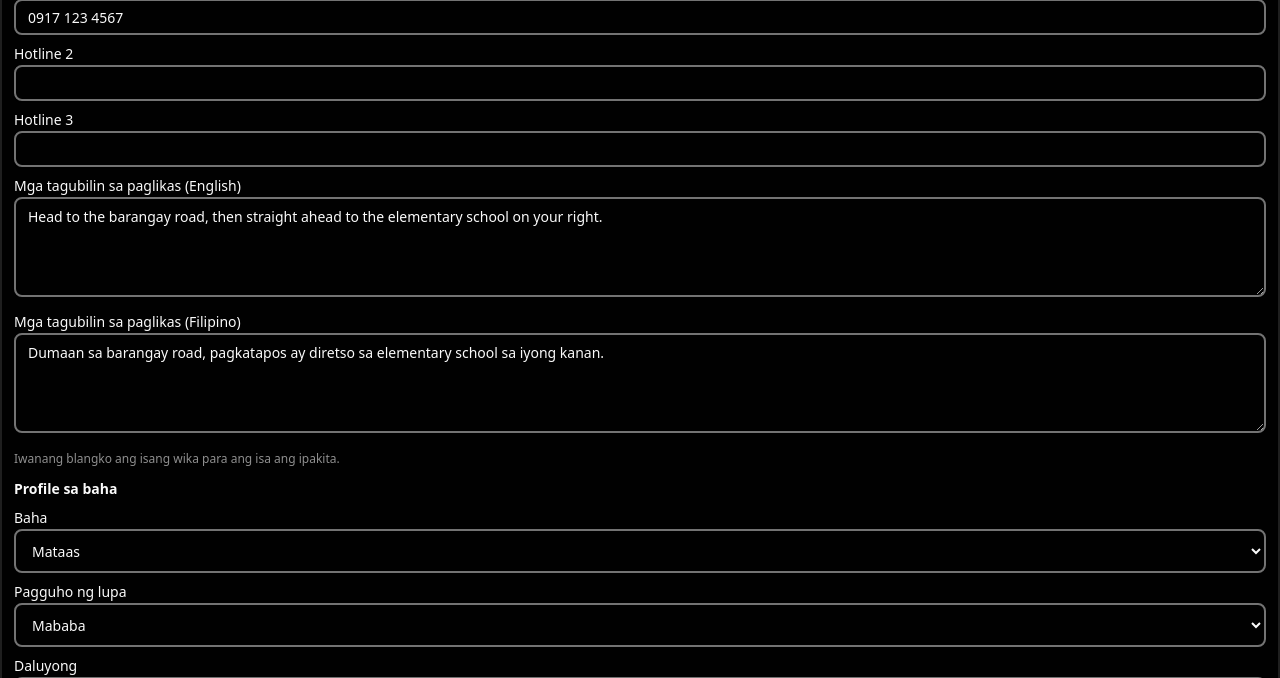
Test: BarangayDetailsForm › refuses a bad number in the official's language, without sending
This screenshot has width=1280, height=678.
Type "abc" into the field labelled "Hotline 2" at (640, 83), box [14,65,1266,101]
(page scrolled)
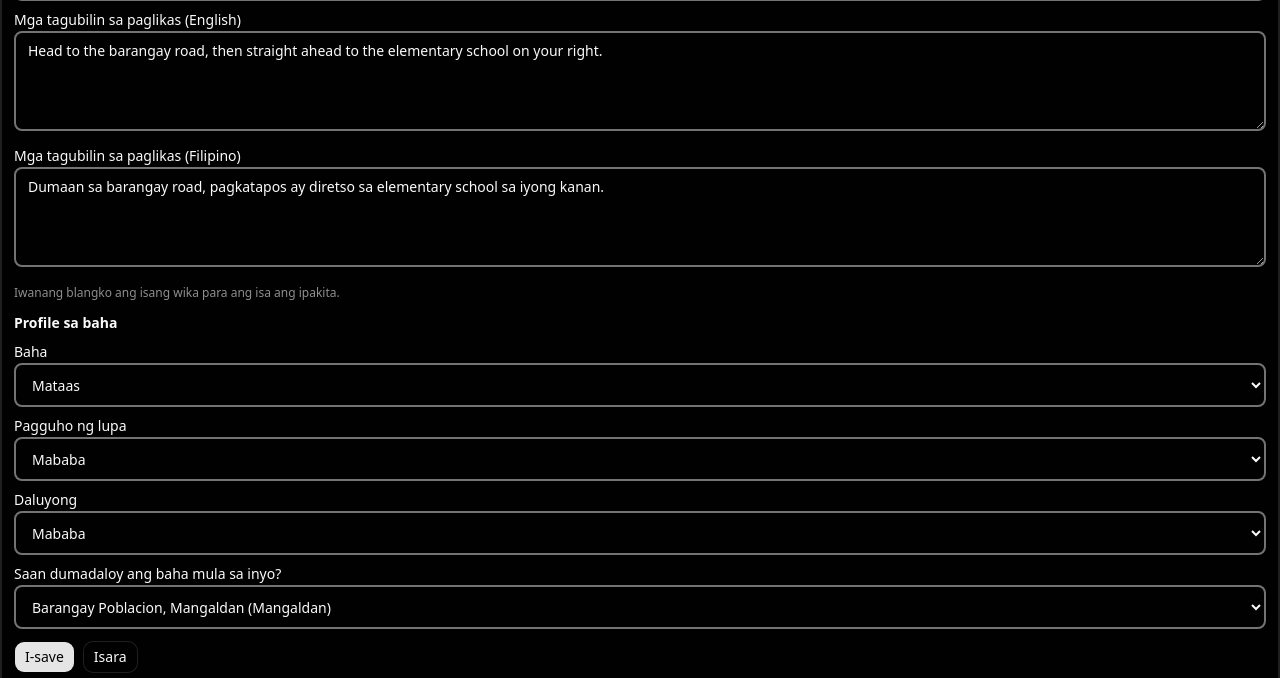
Click the button "I-save" at (44, 657), box [14,641,75,673]
(page scrolled)
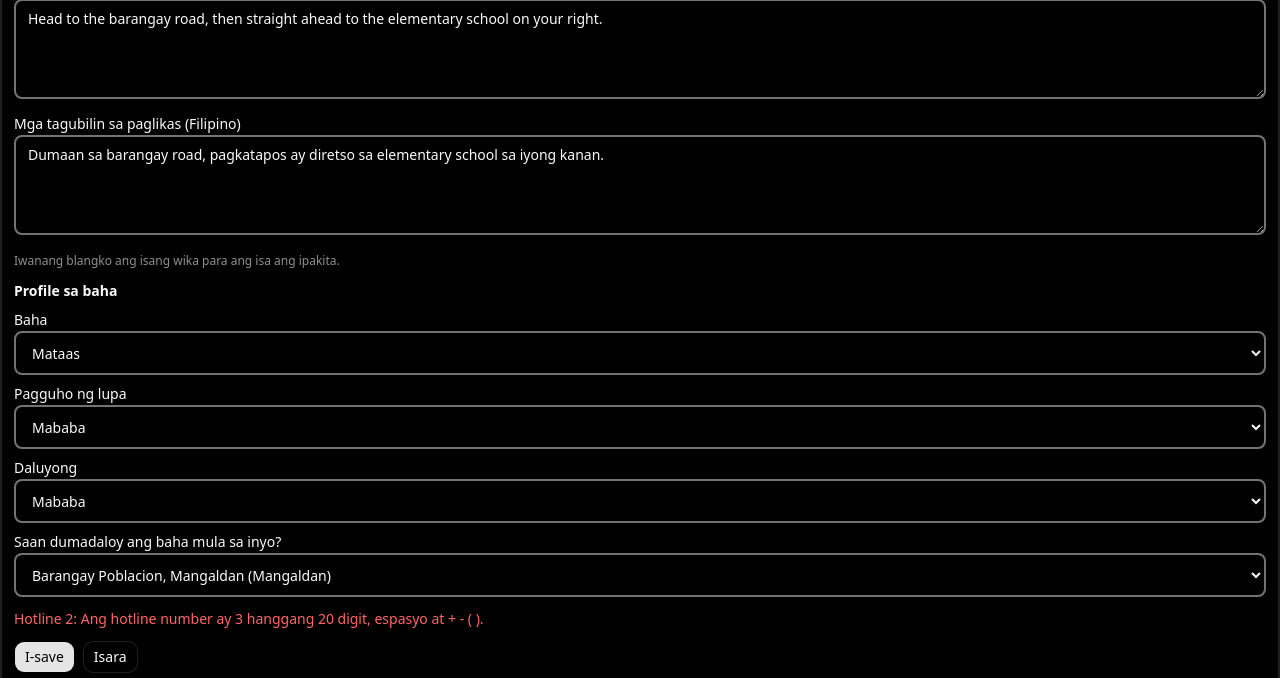
Check: the message shows "Ang hotline number ay 3 hanggang 20 digit, espasyo at + - ( ).", box [14,609,484,628]
